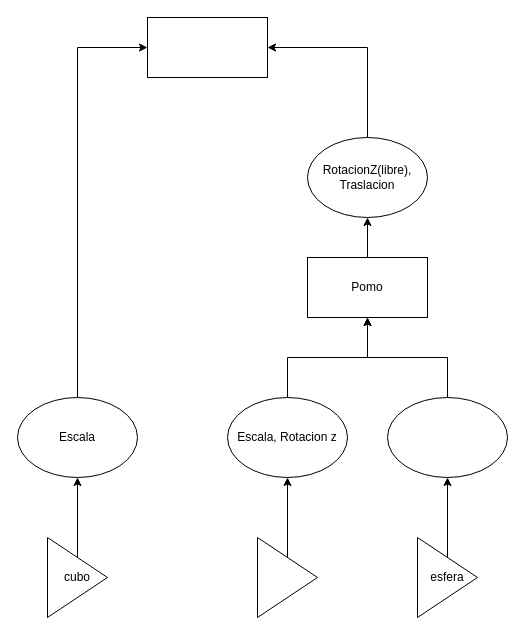
This 525x635 diagram has some shape labels left out. Here are the shapes that lost their labels. From the top down, the centre of each, then its label:
At (x=207, y=47): "Puerta".
At (x=447, y=437): "Escala, Traslacion".
At (x=287, y=577): "cilindro".
